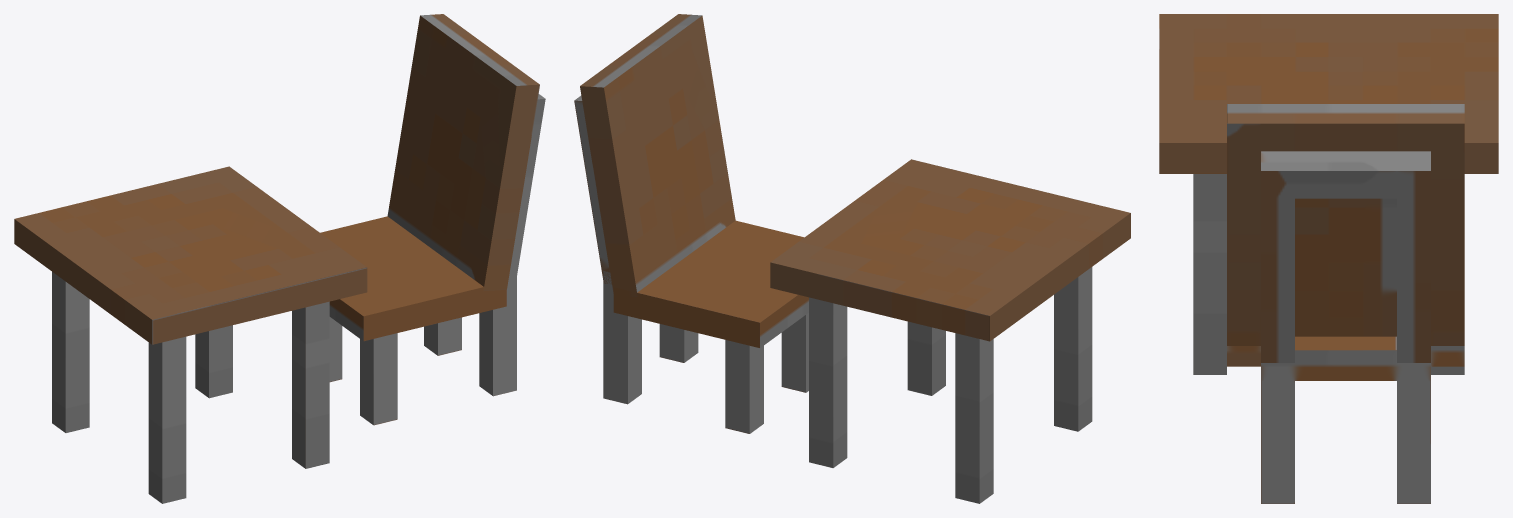
The model's file is SchoolDeskChair.fbx.
3 views of the same model, side by side, from view 1: azimuth 30°, elevation 25°; view 2: azimuth 150°, elevation 25°; view 3: azimuth 270°, elevation 25° (orthographic). The views are drawn at different scales.
Visible parts, largest first — view 1: Untitled.002, Untitled.001; view 2: Untitled.002, Untitled.001; view 3: Untitled.001, Untitled.002.
Part boxes in pixels (x1,y1,x2,y2): Untitled.002: [14, 166, 367, 503]; Untitled.001: [320, 14, 545, 425]; Untitled.002: [770, 159, 1130, 503]; Untitled.001: [574, 14, 808, 433]; Untitled.001: [1227, 104, 1464, 503]; Untitled.002: [1159, 14, 1498, 374].
Size of the model in its own units: 182 by 127 by 100.
Materials: 1 (1 with a texture image).
